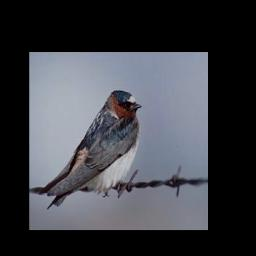Swallow: (38, 89, 140, 212)
